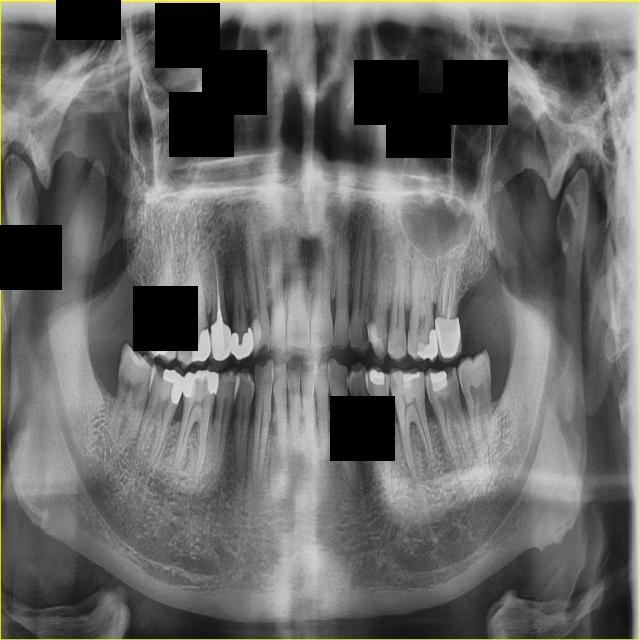74: (214, 250, 221, 312), (441, 272, 448, 314), (446, 286, 454, 319), (451, 282, 457, 308)
NucleOSS Implant: (182, 370, 220, 397), (158, 368, 186, 404), (416, 326, 440, 362), (230, 326, 254, 360), (192, 327, 213, 362), (429, 369, 449, 393), (369, 369, 384, 386), (156, 336, 168, 356), (403, 372, 420, 381), (215, 309, 223, 325)
Sterngold Implant: (389, 373, 398, 396), (361, 321, 368, 347), (233, 402, 238, 425), (385, 374, 390, 389)
Straumann Implant: (361, 320, 389, 360), (250, 318, 262, 355)
Zimmer Implant: (434, 314, 464, 362), (210, 322, 231, 372)
